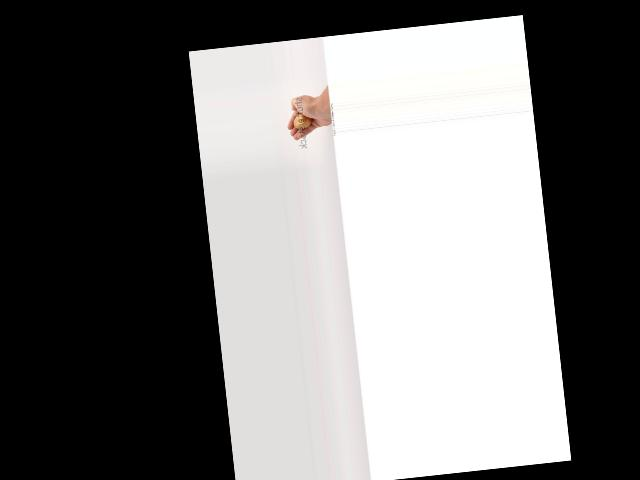egg: (293, 113, 312, 129)
